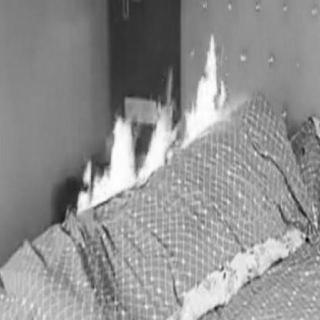Fire: (141, 72, 177, 172)
